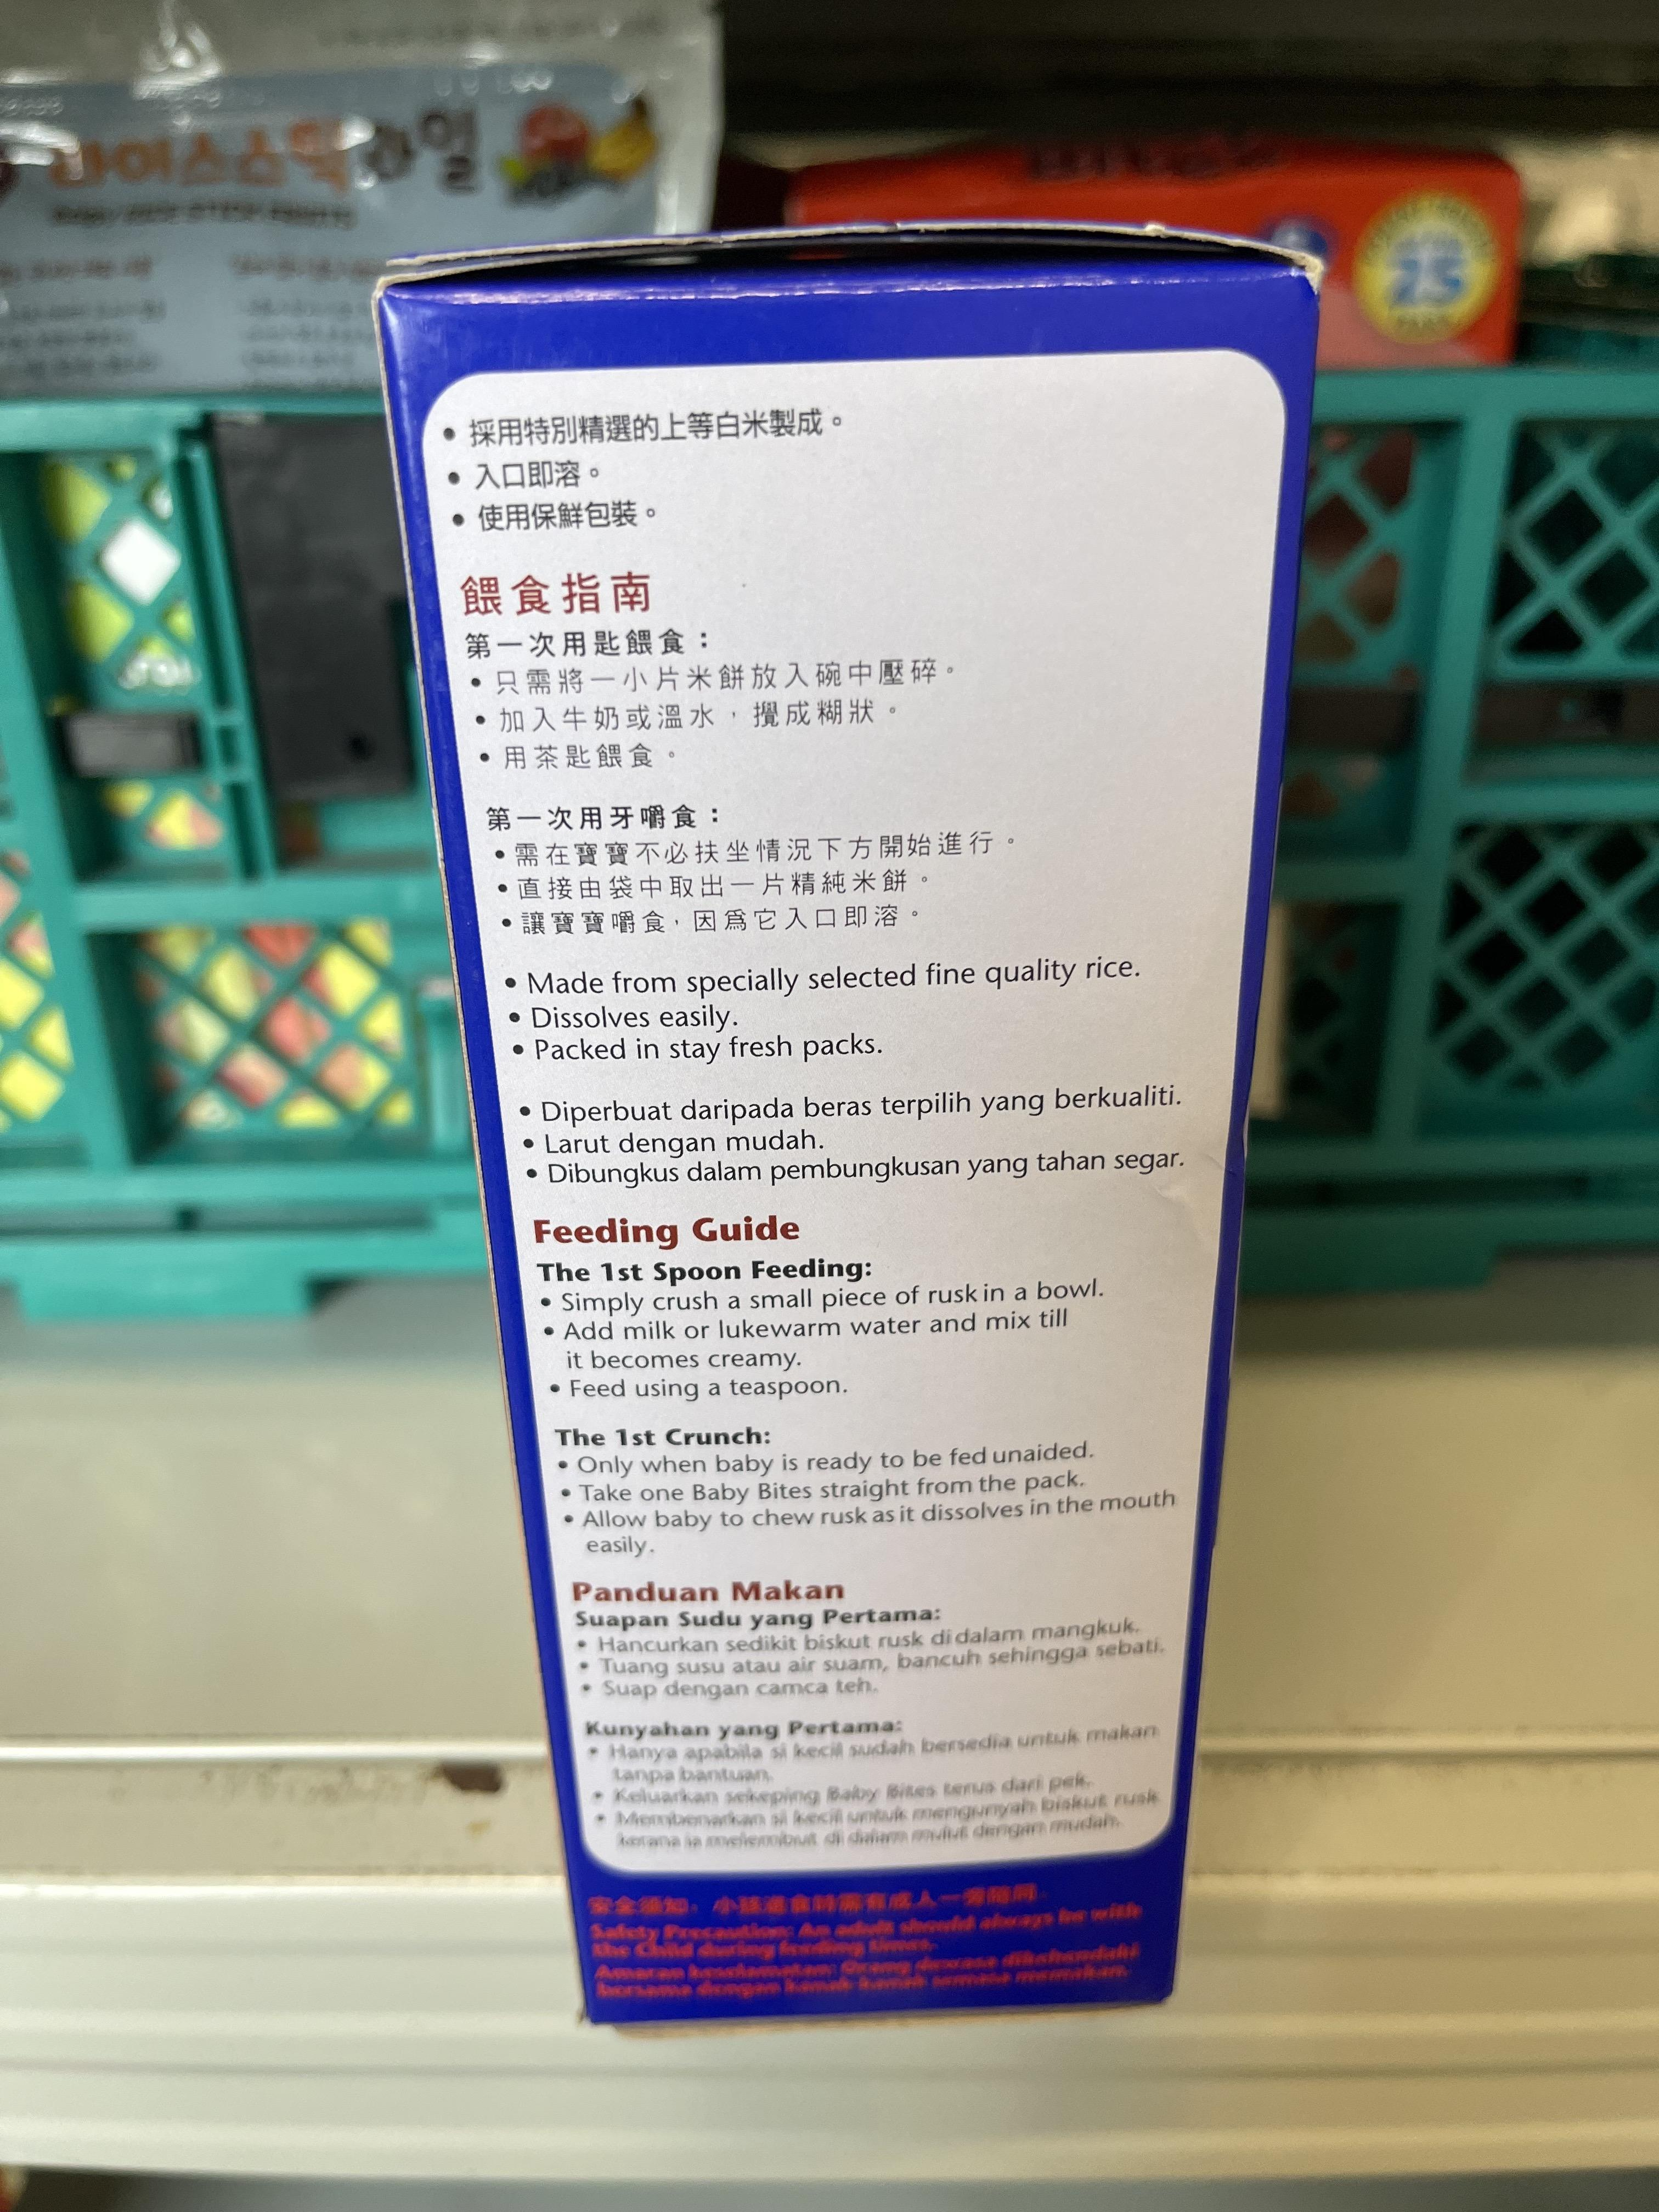object_name: (434, 273, 1262, 1996)
